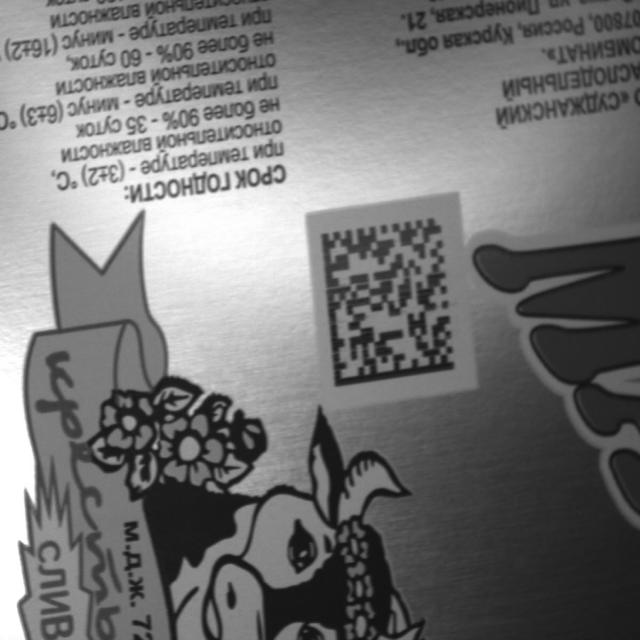datamatrix: (322, 218, 457, 389)
